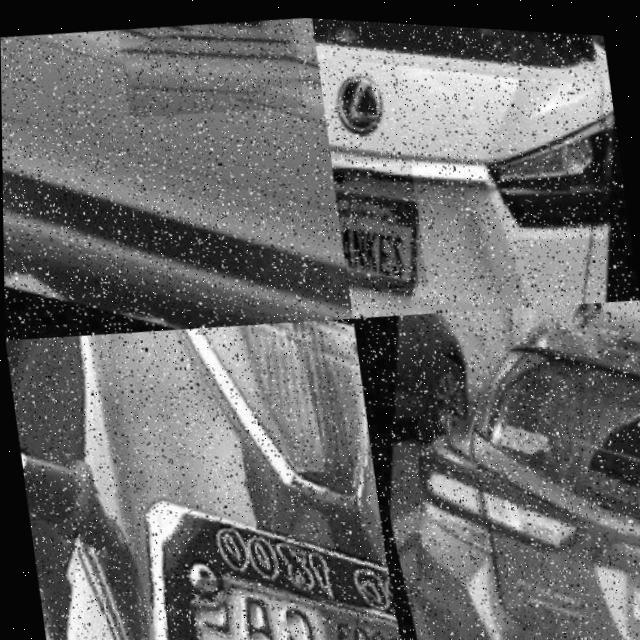LicensePlate: (69, 449, 398, 640), (118, 6, 304, 124), (332, 155, 427, 290)
